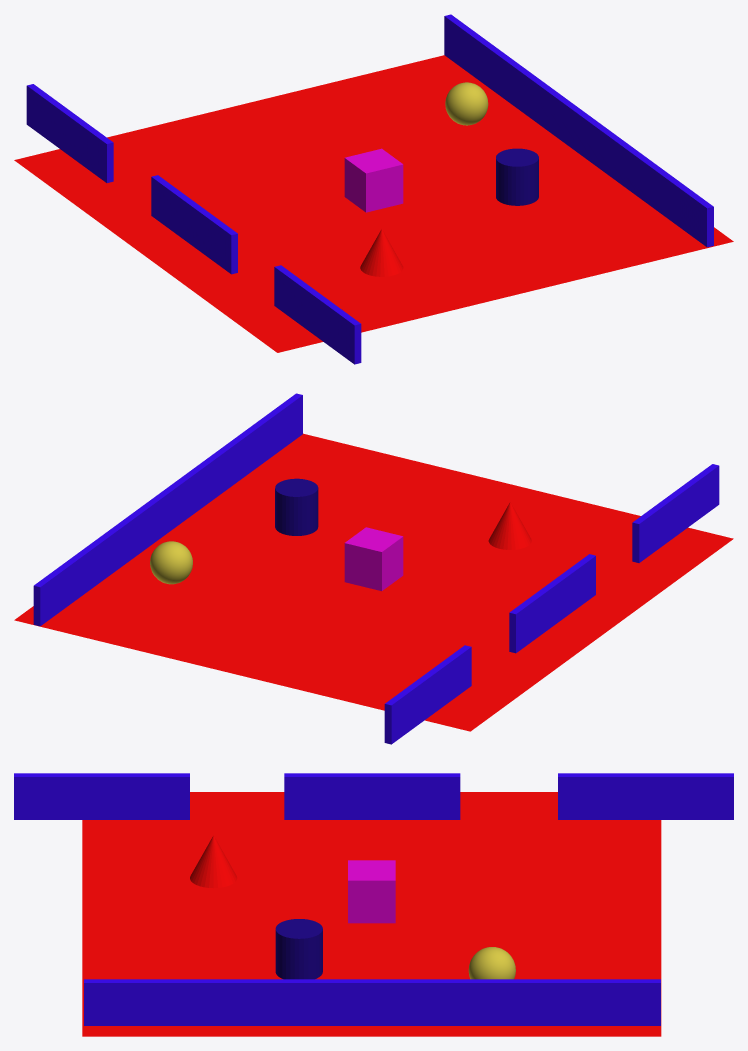
File: map.glb
3 renders of one model, top to bottom at view 1: azimuth 30°, elevation 25°; view 2: azimuth 150°, elevation 25°; view 3: azimuth 270°, elevation 25°, orthographic. The views are drawn at different scales.
Visible parts, largest first — view 1: Plane, Cube.001, Cube.004, Cube.003, Cube.002, Cube, Cylinder, Sphere, Cone; view 2: Plane, Cube.001, Cube.003, Cube.004, Cube.002, Cube, Cylinder, Sphere, Cone; view 3: Plane, Cube.001, Cube.002, Cube.003, Cube.004, Cube, Cylinder, Cone, Sphere.
Boxes of the visible parts, x1,y1,x2,y2 form: Plane: (14,55,733,352); Cube.001: (444,14,713,247); Cube.004: (274,265,361,364); Cube.003: (26,84,113,182); Cube.002: (151,175,237,274); Cube: (344,148,403,212); Cylinder: (496,148,538,205); Sphere: (445,82,488,125); Cone: (360,229,403,276); Plane: (14,433,733,731); Cube.001: (33,393,302,626); Cube.003: (384,645,471,744); Cube.004: (632,464,719,562); Cube.002: (509,554,595,653); Cube: (344,527,403,591); Cylinder: (275,478,318,535); Sphere: (150,541,192,584); Cone: (488,502,531,549); Plane: (82,792,661,1036); Cube.001: (84,979,660,1025); Cube.002: (284,773,460,819); Cube.003: (558,773,733,819); Cube.004: (14,773,189,819); Cube: (348,860,395,923); Cylinder: (275,919,322,979); Cone: (190,835,237,888); Sphere: (468,947,515,979).
Bounding box in the file's own units: 24.42 × 2.08 × 30.37.
